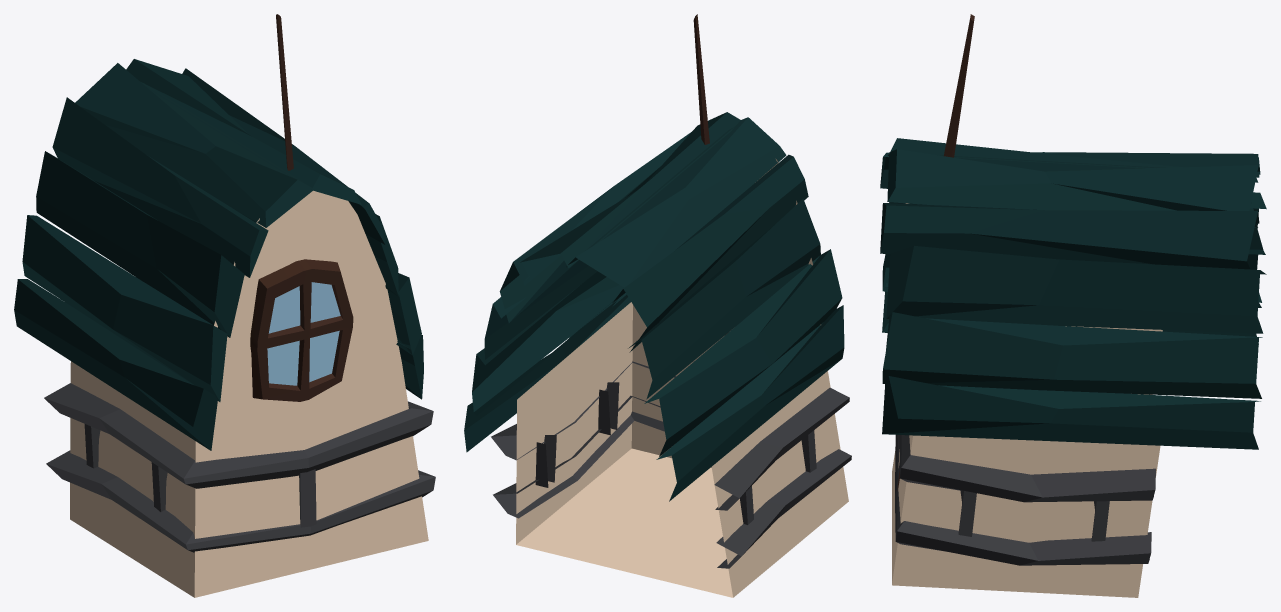
File: SM_L_G_Home_Pop_Up_curve_Window.fbx
3 views of the same model, side by side, from view 1: azimuth 30°, elevation 25°; view 2: azimuth 150°, elevation 25°; view 3: azimuth 270°, elevation 25° (orthographic). The views are drawn at different scales.
Parts seen in each view (by area): view 1: SM_L_G_Home_Window_Popup_curve; view 2: SM_L_G_Home_Window_Popup_curve; view 3: SM_L_G_Home_Window_Popup_curve.
Part boxes in pixels (x1,y1,x2,y2): SM_L_G_Home_Window_Popup_curve: [14, 14, 435, 597]; SM_L_G_Home_Window_Popup_curve: [464, 14, 851, 597]; SM_L_G_Home_Window_Popup_curve: [880, 14, 1266, 597].
Bounding box in the file's own units: 1.92 × 3.66 × 2.42.
